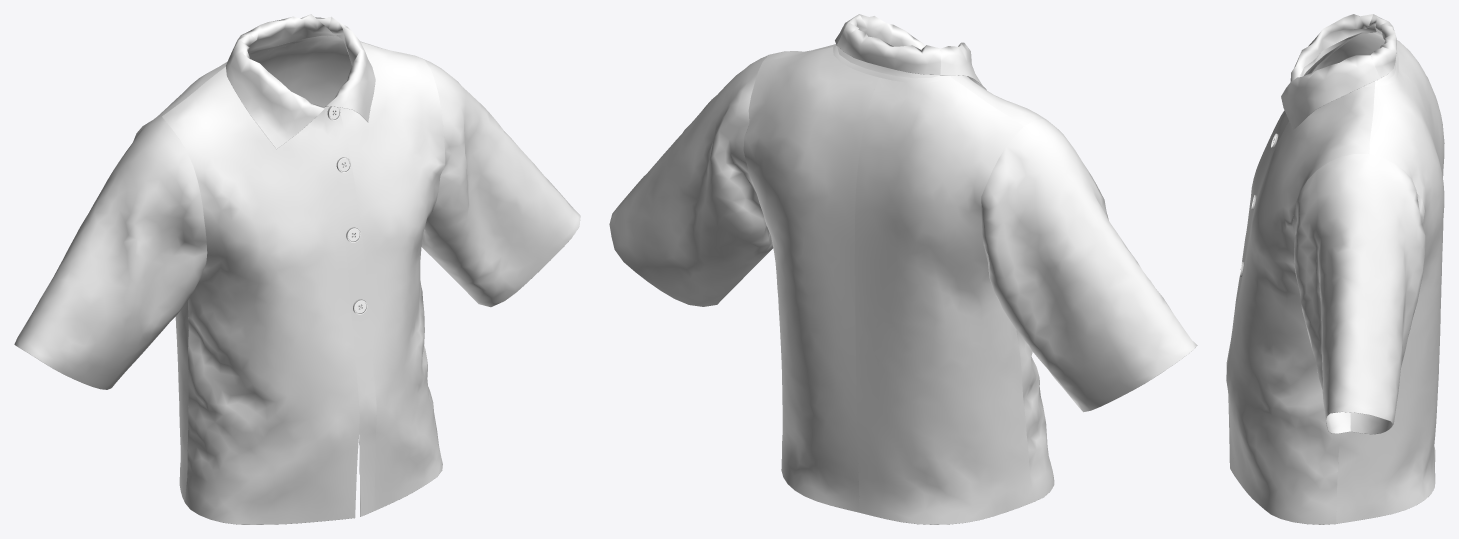
File: FLG_12_03_5.fbx
3 renders of one model, left to right at view 1: azimuth 30°, elevation 25°; view 2: azimuth 150°, elevation 25°; view 3: azimuth 270°, elevation 25°, orthographic. The views are drawn at different scales.
Parts seen in each view (by area): view 1: FLG_12_03_5; view 2: FLG_12_03_5; view 3: FLG_12_03_5.
Part boxes in pixels (left/top/right/bottom): FLG_12_03_5: left=14, top=14, right=580, bottom=524; FLG_12_03_5: left=609, top=14, right=1197, bottom=524; FLG_12_03_5: left=1226, top=14, right=1444, bottom=524.
Size of the model in its own units: 83.84 by 63.33 by 28.71.
